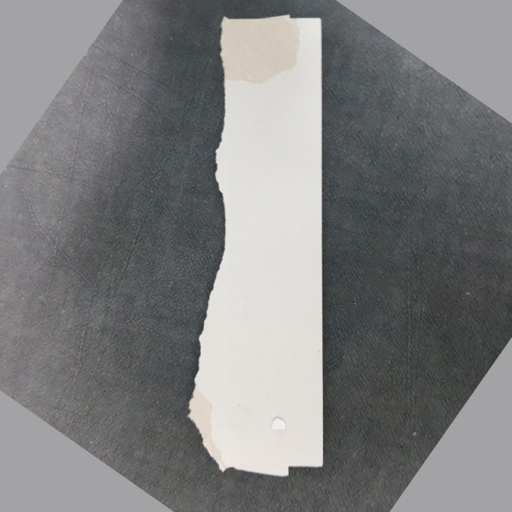Paper_2: (202, 17, 344, 486)
